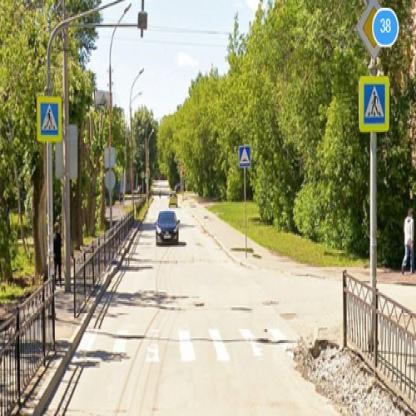obstructed_road_sign: (356, 0, 382, 58)
road_sign: (359, 76, 388, 132), (37, 97, 62, 141), (239, 146, 251, 167)
